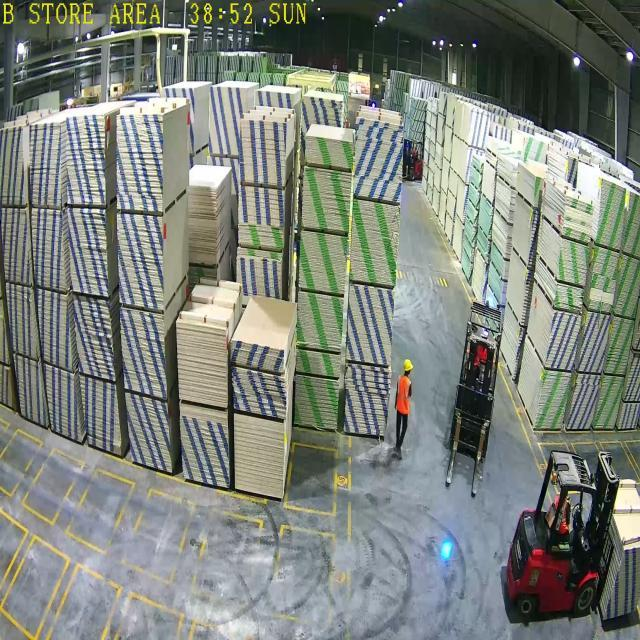stack: (351, 200, 400, 284), (354, 118, 402, 201), (235, 415, 283, 496), (347, 285, 394, 364), (345, 365, 390, 435), (302, 169, 351, 232), (300, 232, 347, 293), (298, 294, 343, 350), (233, 370, 285, 418), (296, 378, 337, 427), (597, 179, 626, 248), (537, 370, 569, 430), (546, 313, 580, 369), (589, 248, 618, 311), (579, 313, 609, 370), (567, 375, 599, 428), (605, 317, 634, 374), (231, 342, 284, 372), (305, 136, 353, 168), (595, 376, 624, 428), (617, 255, 640, 318), (563, 196, 593, 243), (559, 240, 589, 286), (297, 350, 339, 377), (555, 284, 584, 313)
